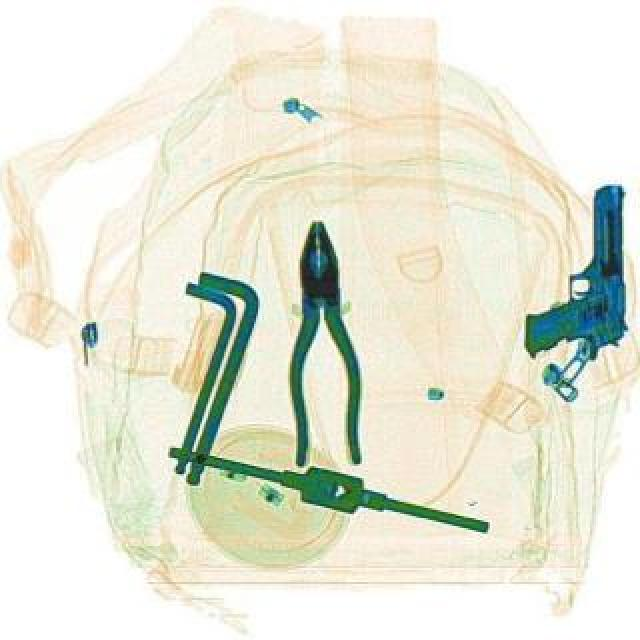gun: (520, 182, 632, 362)
wrench: (284, 218, 368, 466)
